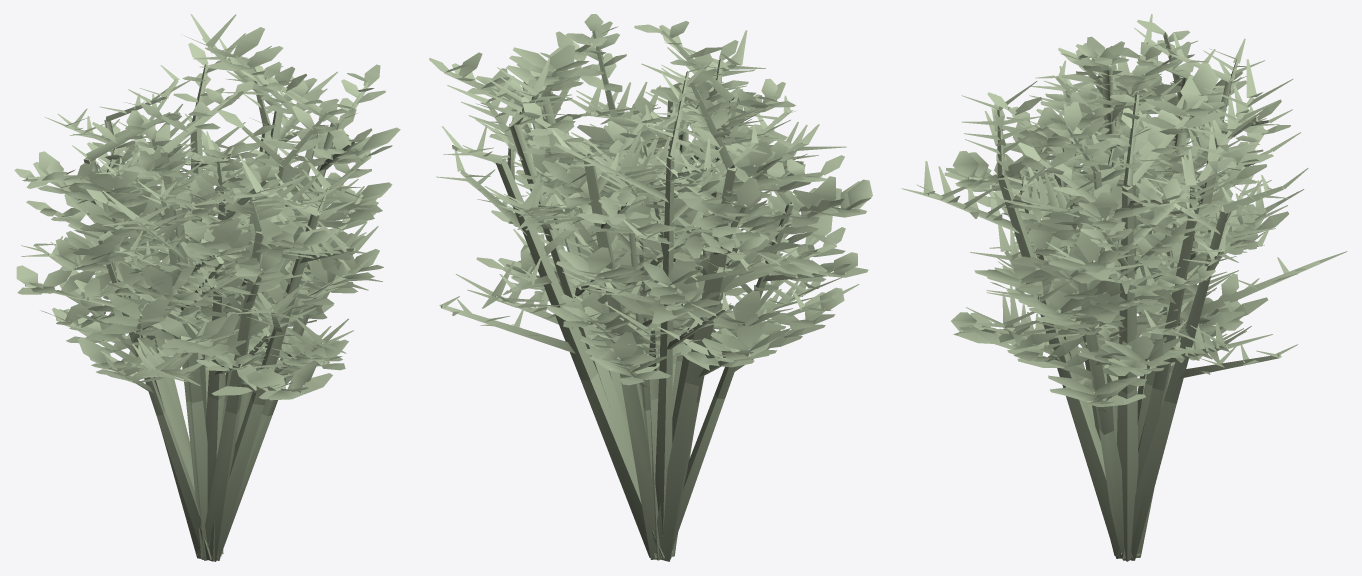
The model's file is shrub_vase.glb.
The picture shows the model from 3 angles, left to right: view 1: azimuth 30°, elevation 25°; view 2: azimuth 150°, elevation 25°; view 3: azimuth 270°, elevation 25°; orthographic projection. The views are drawn at different scales.
Visible parts, largest first — view 1: v1_foliage, v0_foliage, v3_foliage, v0_bark, v1_bark, v3_bark, v2_foliage, v2_bark; view 2: v1_foliage, v0_foliage, v0_bark, v3_foliage, v2_bark, v1_bark, v2_foliage, v3_bark; view 3: v1_foliage, v3_foliage, v0_foliage, v0_bark, v3_bark, v2_bark, v2_foliage, v1_bark.
Boxes of the visible parts, <box> form: v1_foliage: <box>16,27,400,400</box>; v0_foliage: <box>14,42,392,371</box>; v3_foliage: <box>102,14,382,385</box>; v0_bark: <box>26,64,369,561</box>; v1_bark: <box>25,55,363,561</box>; v3_bark: <box>125,45,355,560</box>; v2_foliage: <box>21,65,314,368</box>; v2_bark: <box>34,80,298,556</box>; v1_foliage: <box>475,44,872,385</box>; v0_foliage: <box>429,14,845,362</box>; v0_bark: <box>444,30,836,561</box>; v3_foliage: <box>447,30,846,365</box>; v2_bark: <box>441,71,833,558</box>; v1_bark: <box>521,69,854,556</box>; v2_foliage: <box>436,62,859,340</box>; v3_bark: <box>486,64,813,560</box>; v1_foliage: <box>944,63,1288,406</box>; v3_foliage: <box>901,55,1304,365</box>; v0_foliage: <box>987,19,1290,376</box>; v0_bark: <box>1007,32,1263,561</box>; v3_bark: <box>928,85,1265,560</box>; v2_bark: <box>1022,41,1319,560</box>; v2_foliage: <box>993,14,1347,374</box>; v1_bark: <box>964,94,1254,560</box>.
Size of the model in its own units: 0.8423 by 1 by 0.7905.
